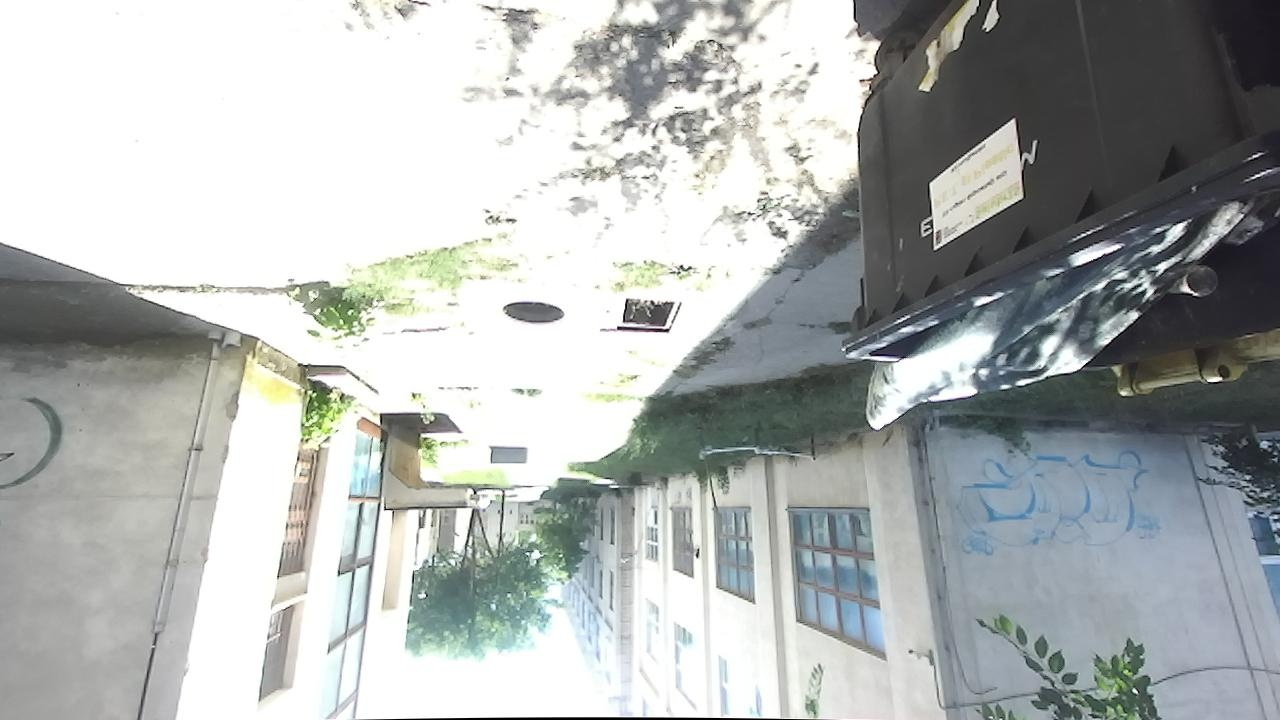drain: (613, 295, 684, 332), (498, 299, 567, 329)
